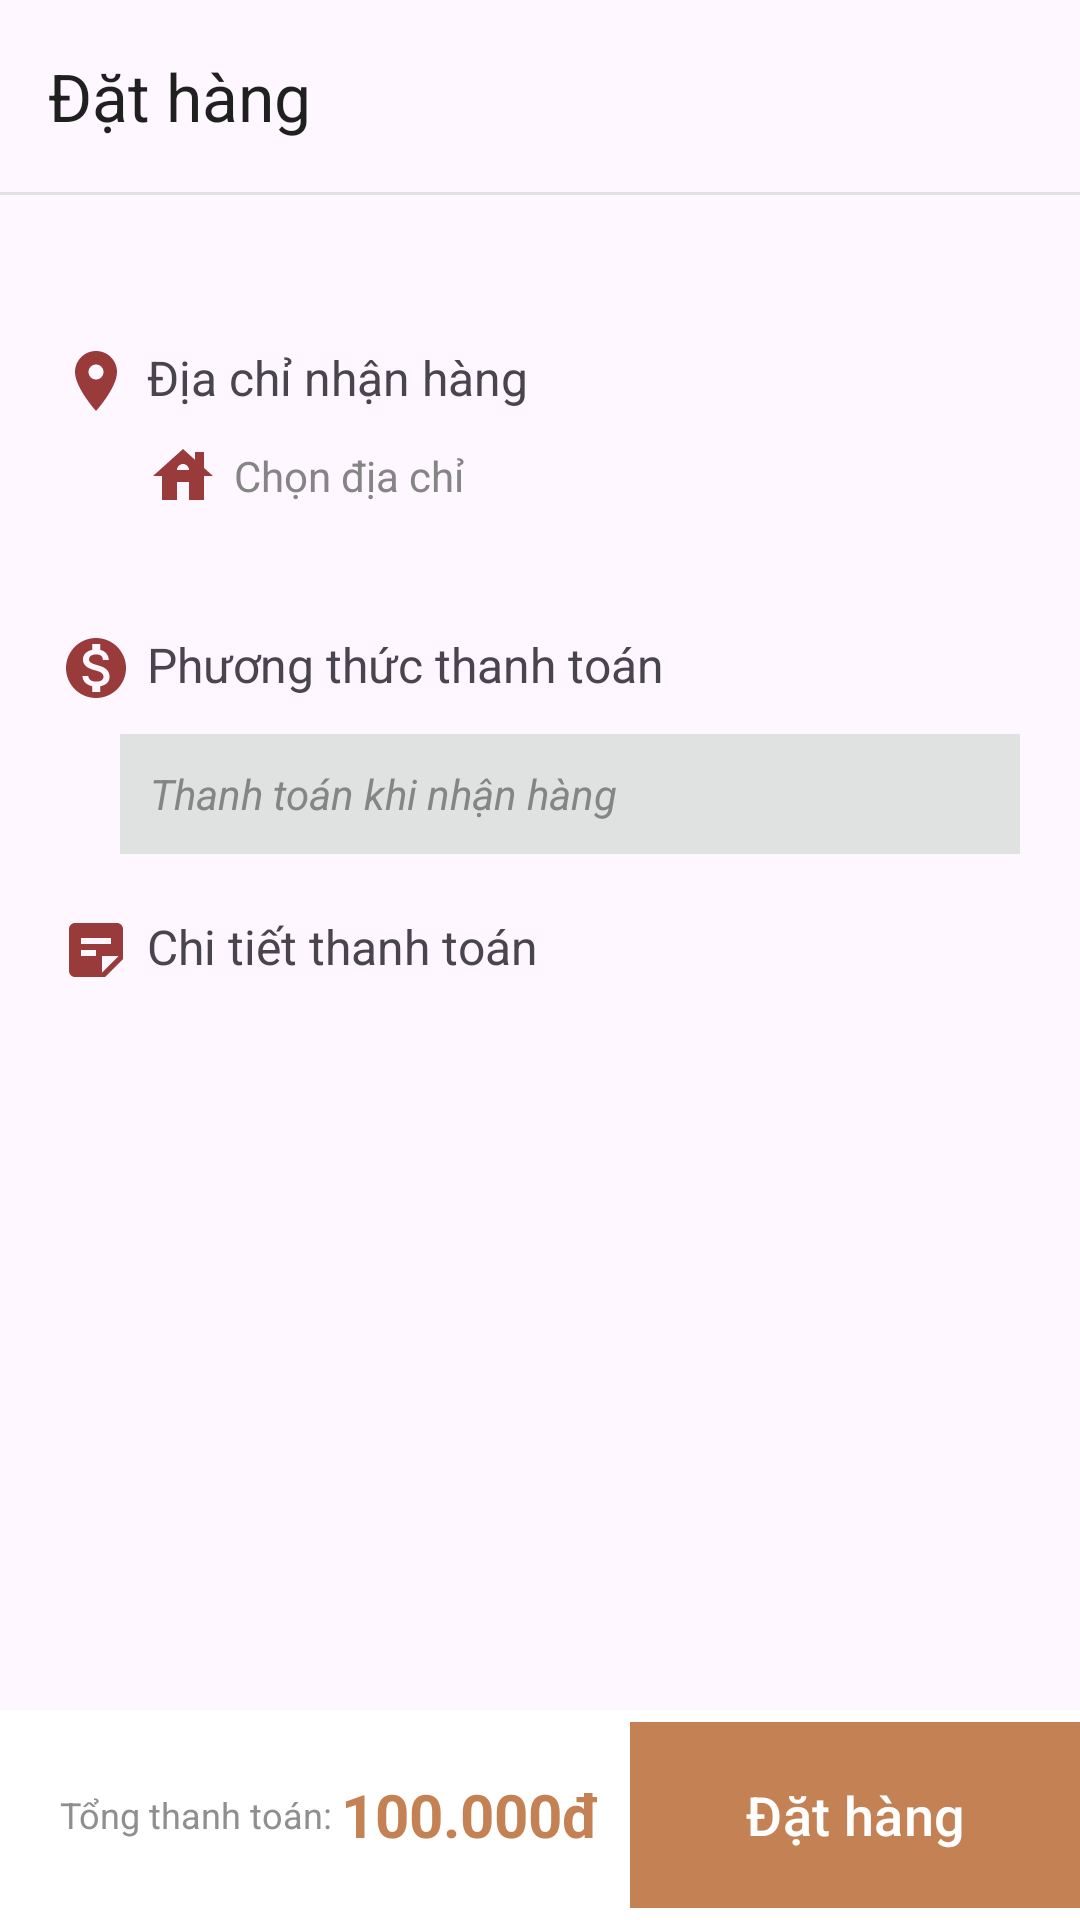

Locate icon controls on the screen. Image size 1080×1920, boxes as (x1, y1, x2, y2).
house: (153, 449, 213, 500)
location on: (75, 351, 117, 411)
monetization on: (66, 638, 126, 698)
sticky note: (69, 923, 123, 977)
